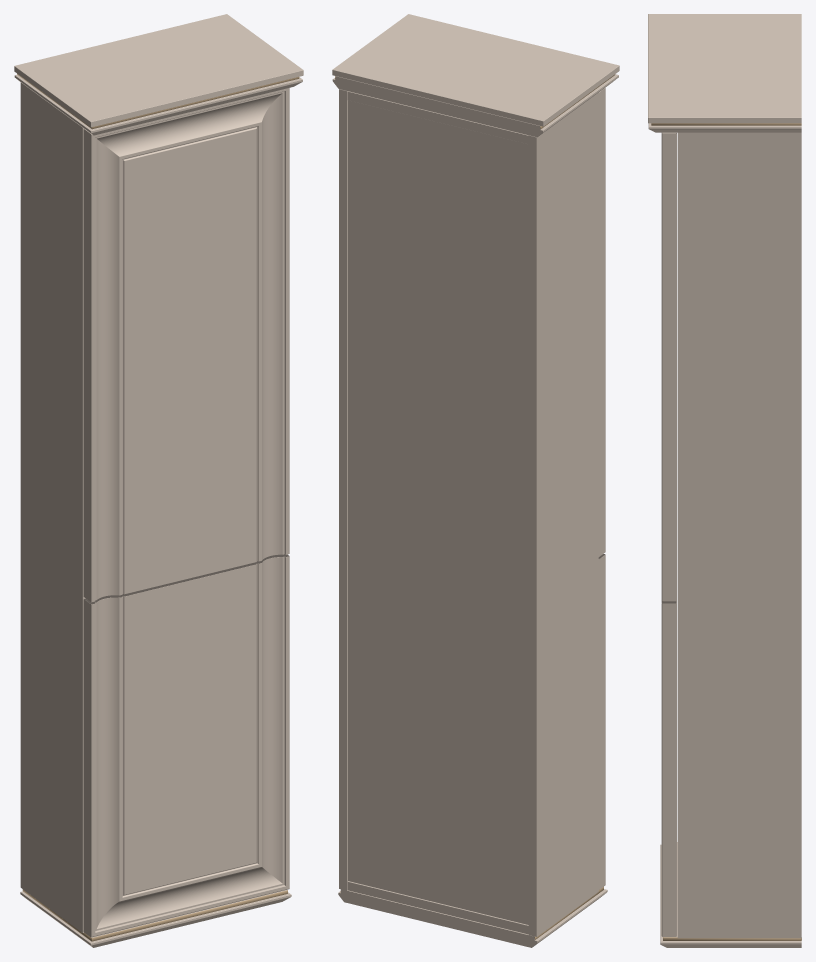
3 renders of one model, left to right at view 1: azimuth 30°, elevation 25°; view 2: azimuth 150°, elevation 25°; view 3: azimuth 270°, elevation 25°, orthographic.
Visible parts, largest first — view 1: BL010.006, BL011.001; view 2: BL011.001, BL010.006; view 3: BL011.001, BL010.006.
Boxes of the visible parts, x1,y1,x2,y2 form: BL010.006: (83, 88, 289, 937); BL011.001: (14, 14, 303, 947); BL011.001: (332, 14, 619, 947); BL010.006: (598, 87, 605, 889); BL011.001: (648, 14, 801, 947); BL010.006: (661, 132, 676, 936).
Size of the model in its own units: 0.4 by 1.5 by 0.2503.
